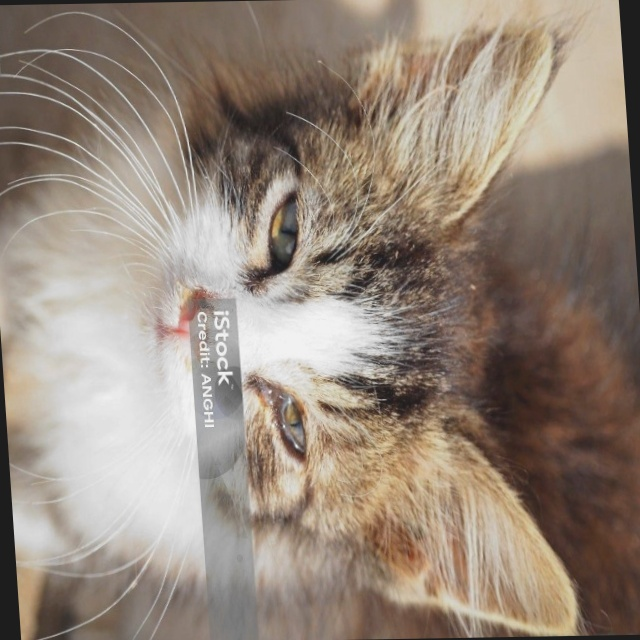eye_infection: (265, 386, 307, 458)
